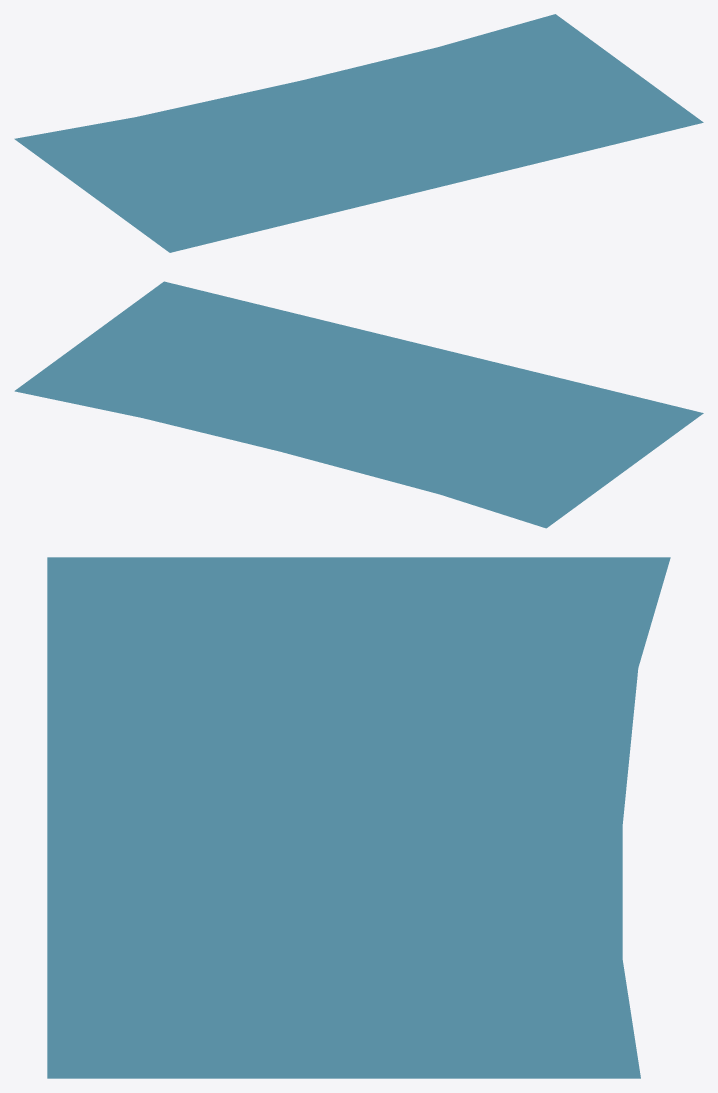
File: nature_17_-3.glb
3 renders of one model, top to bottom at view 1: azimuth 30°, elevation 25°; view 2: azimuth 150°, elevation 25°; view 3: azimuth 270°, elevation 25°, orthographic. The views are drawn at different scales.
Visible parts, largest first — view 1: water; view 2: water; view 3: water.
Boxes of the visible parts, <box> form: water: <box>14,14,703,252</box>; water: <box>14,281,703,528</box>; water: <box>47,557,670,1078</box>.
Size of the model in its own units: 250 by 0 by 126.
